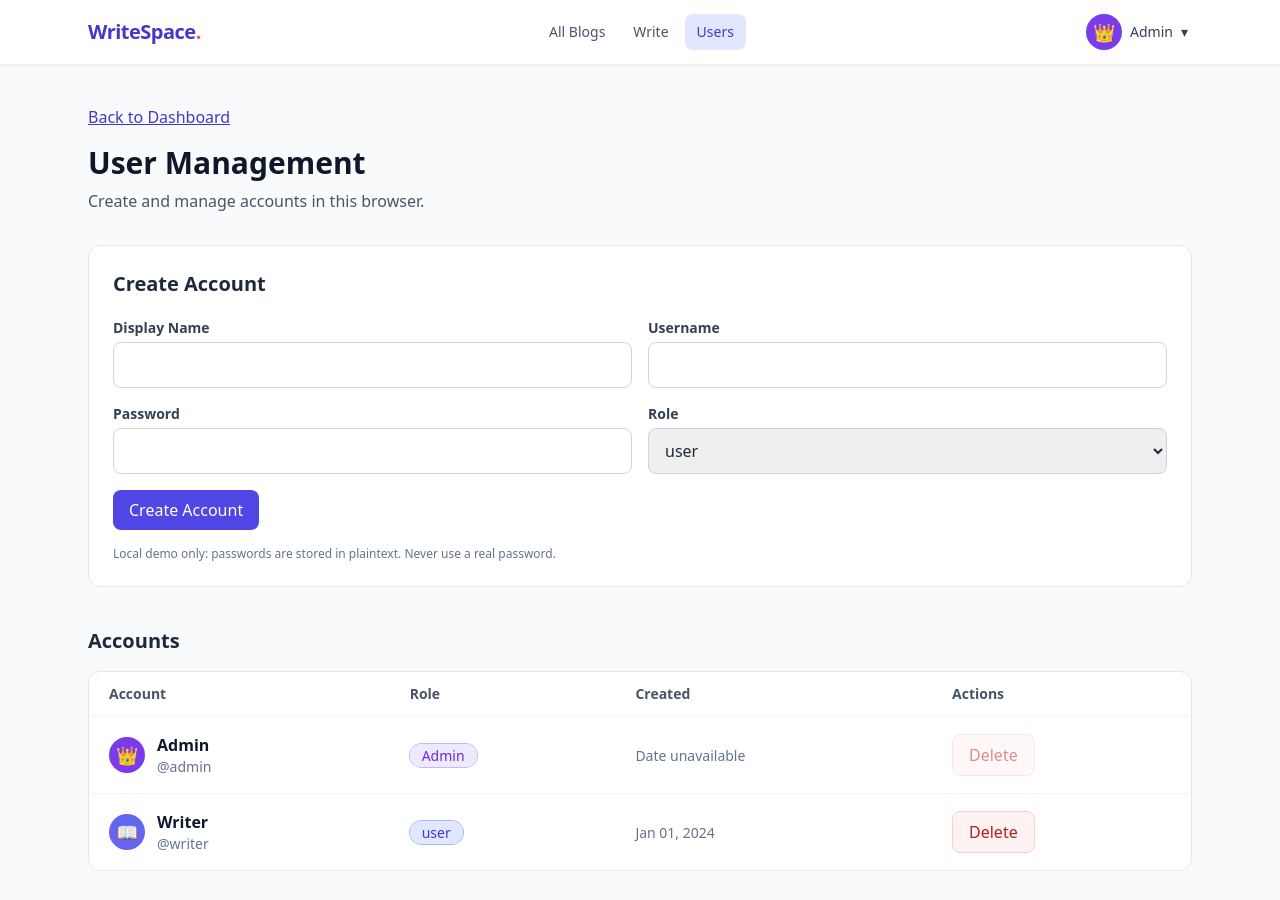
Test: administration › confirms deletion from the desktop table and keeps posts
Click the button with aria-label "Delete writer" at (993, 832), box [952, 811, 1035, 853]
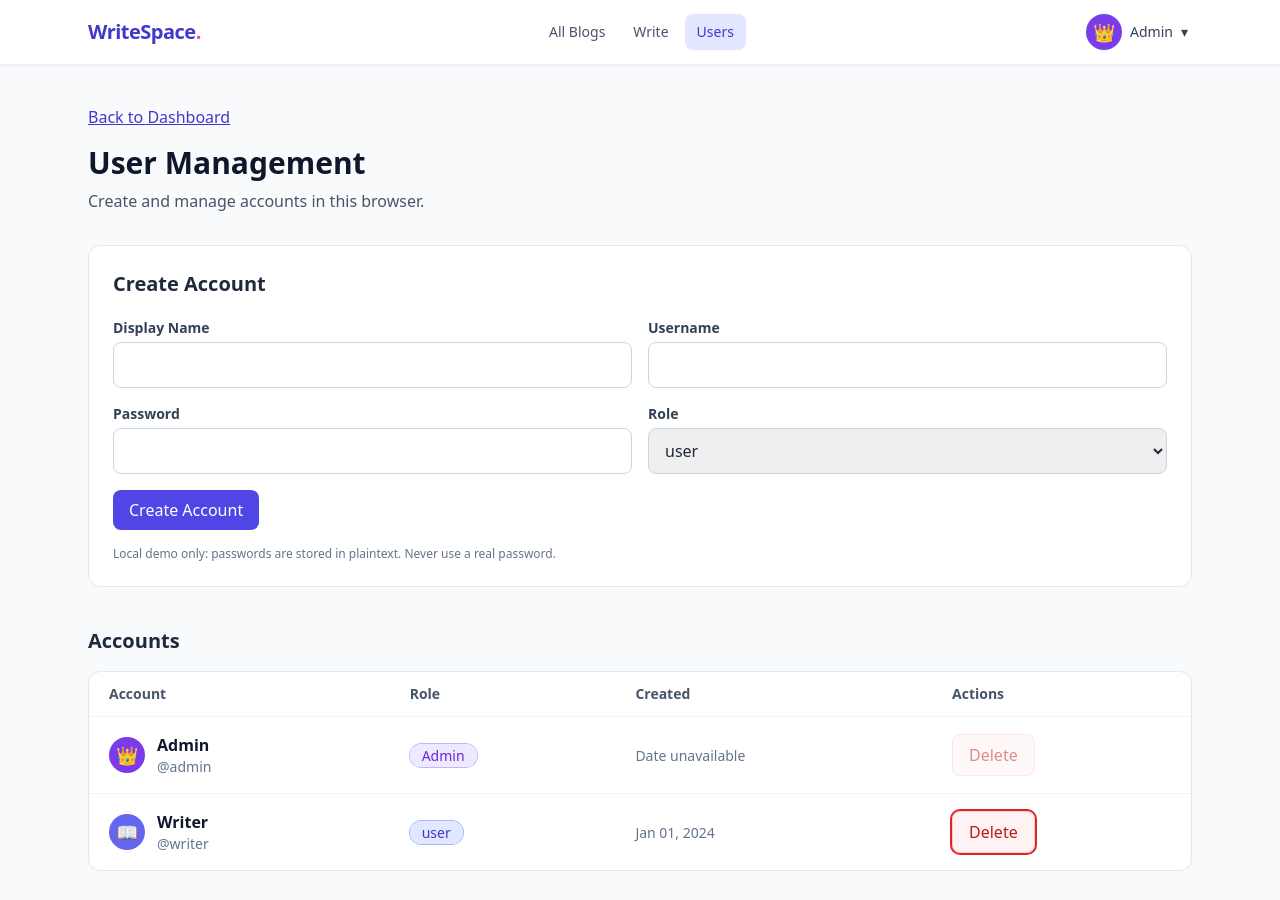
Expected: the text "@writer" is shown, [157, 834, 209, 854]
Click the button with aria-label "Delete writer" at (993, 832), box [952, 811, 1035, 853]
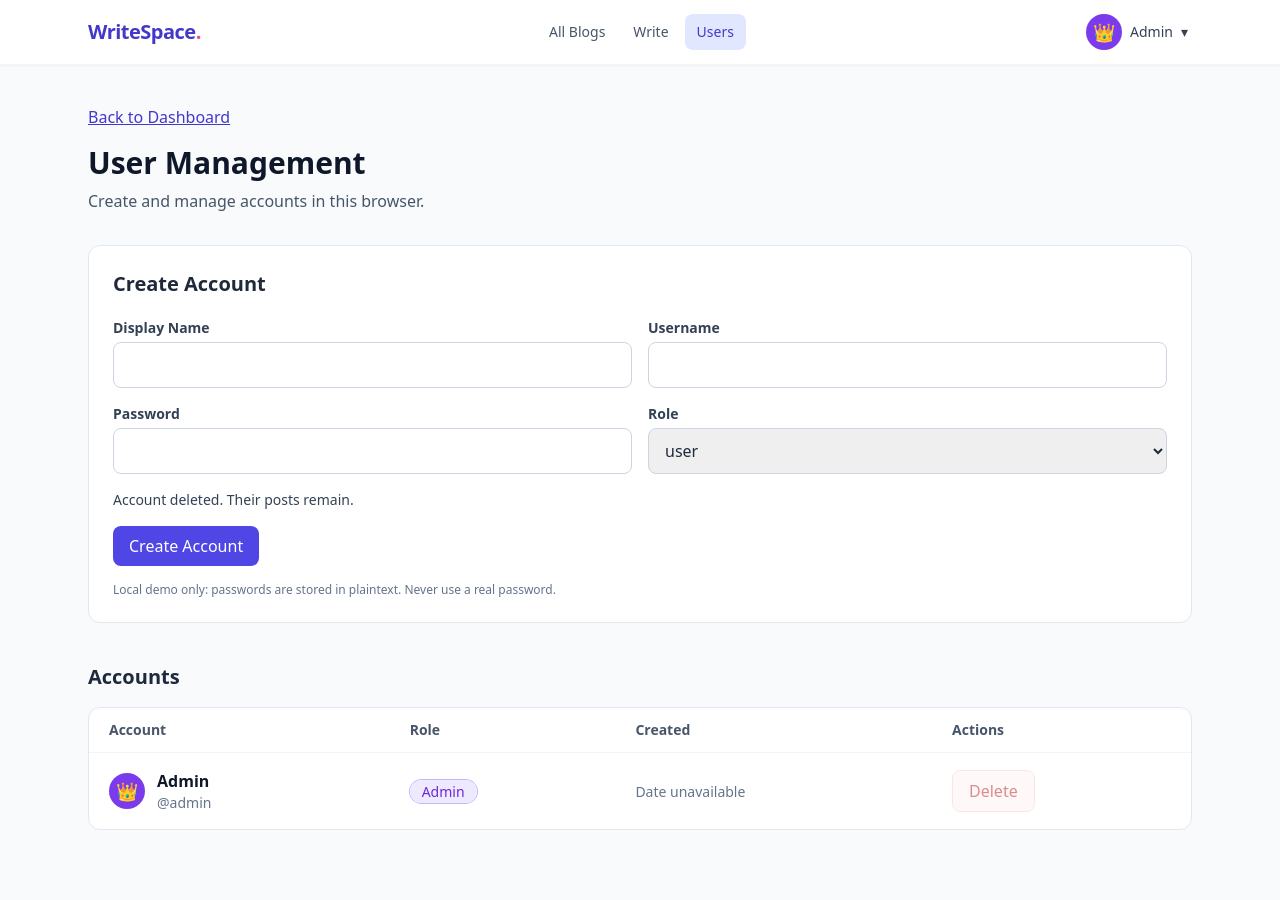
Expected: the text "@writer" is gone
Expected: the message reads "Account deleted. Their posts remain.", [113, 490, 354, 509]
